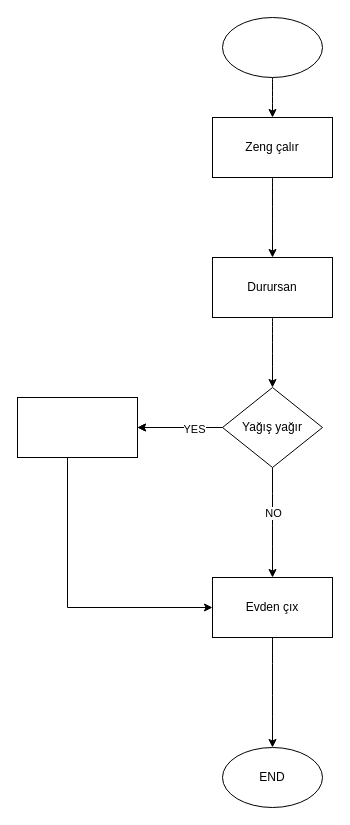
This 350x825 diagram has some shape labels left out. The shapes that lost their labels are listed below. From the top down, each one's box as (x1, y1, x2, y2) in pixels, then its label:
(222, 16, 322, 78): START
(16, 396, 138, 458): Çətir götür
